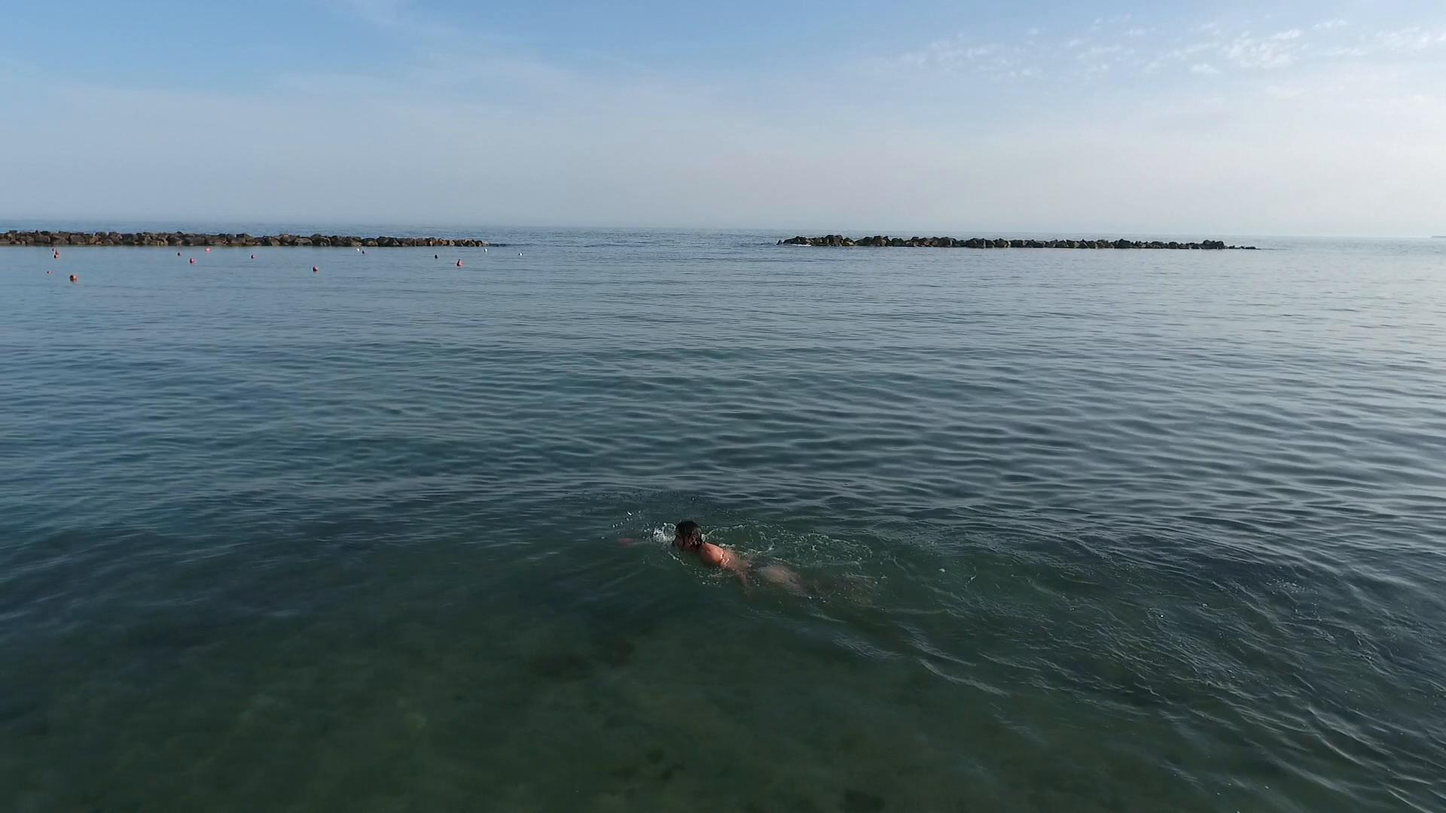swimmer: (628, 513, 802, 587)
